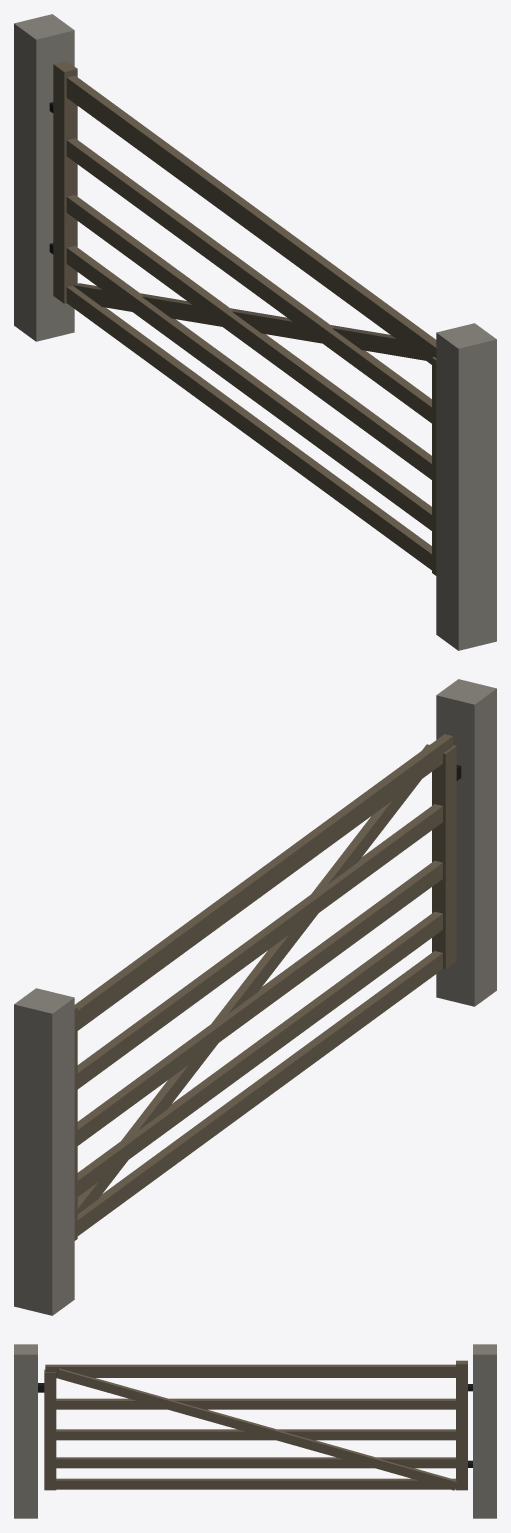
The model's file is SM_Prop_field_gate_2.glb.
The picture shows the model from 3 angles, top to bottom: view 1: azimuth 30°, elevation 25°; view 2: azimuth 150°, elevation 25°; view 3: azimuth 270°, elevation 25°; orthographic projection. The views are drawn at different scales.
Visible parts, largest first — view 1: SM_Prop_field_gate_2; view 2: SM_Prop_field_gate_2; view 3: SM_Prop_field_gate_2.
Part boxes in pixels (x1,y1,x2,y2): SM_Prop_field_gate_2: (14, 14, 496, 650); SM_Prop_field_gate_2: (14, 679, 496, 1315); SM_Prop_field_gate_2: (14, 1344, 496, 1518).
Size of the model in its own units: 0.2 by 1.5 by 4.
